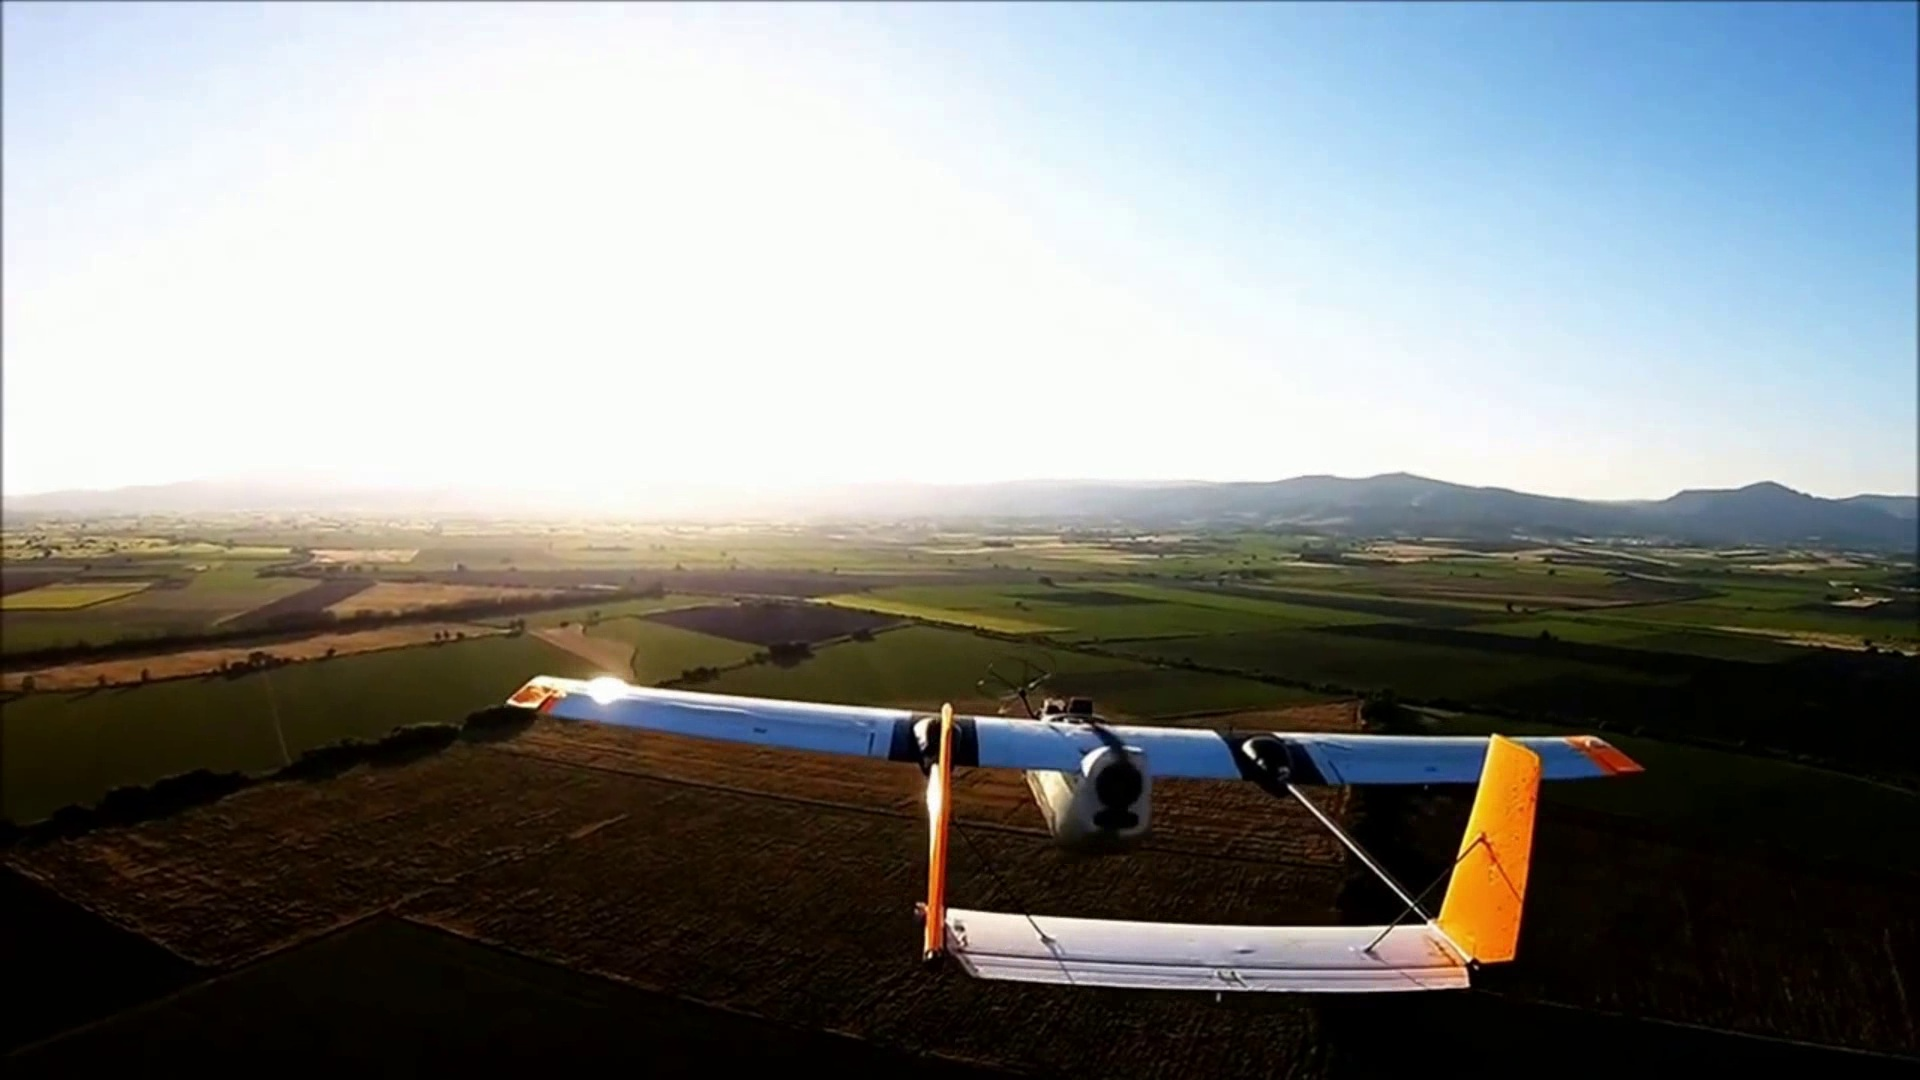airplane: (501, 669, 1640, 992)
